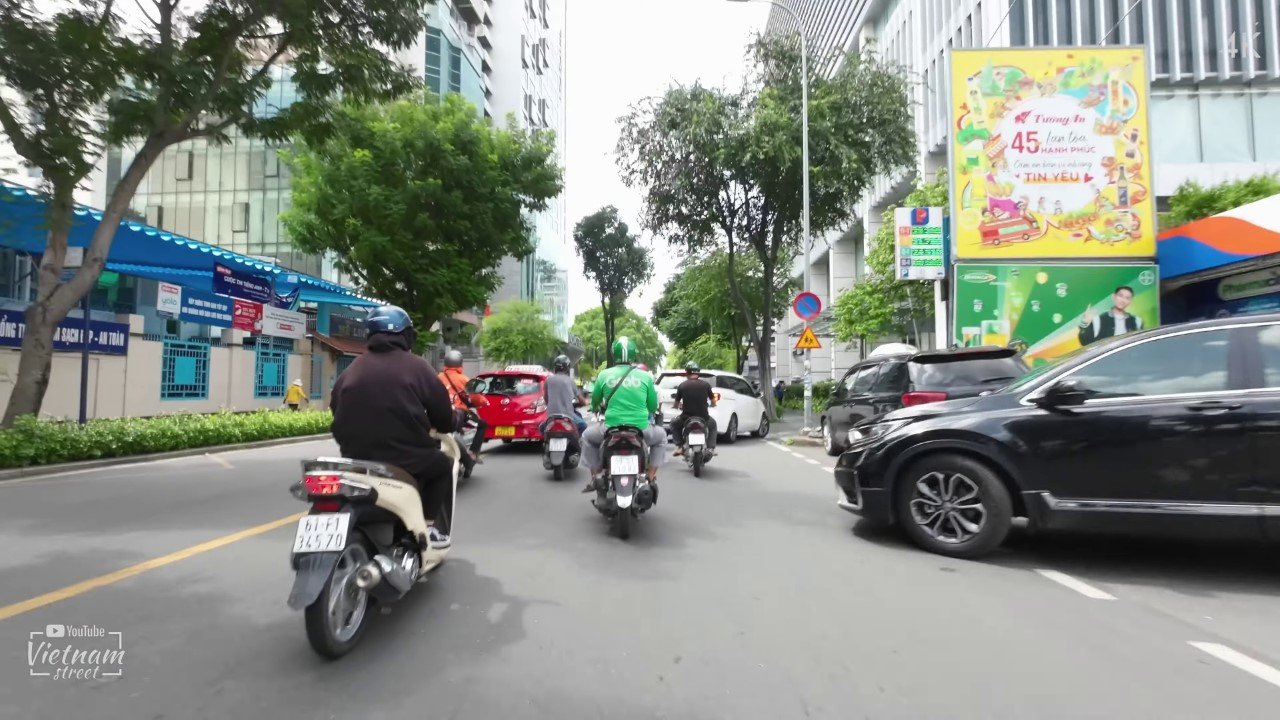cam_do_xe: (792, 289, 822, 322)
